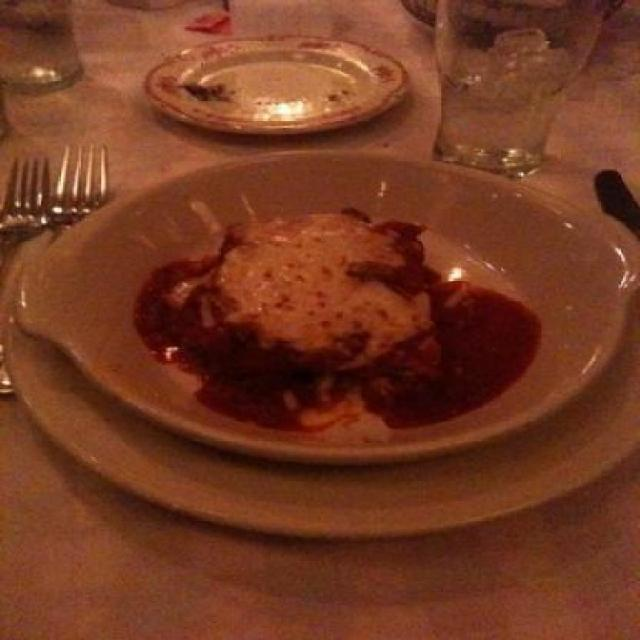Lasagna: (136, 195, 498, 432)
